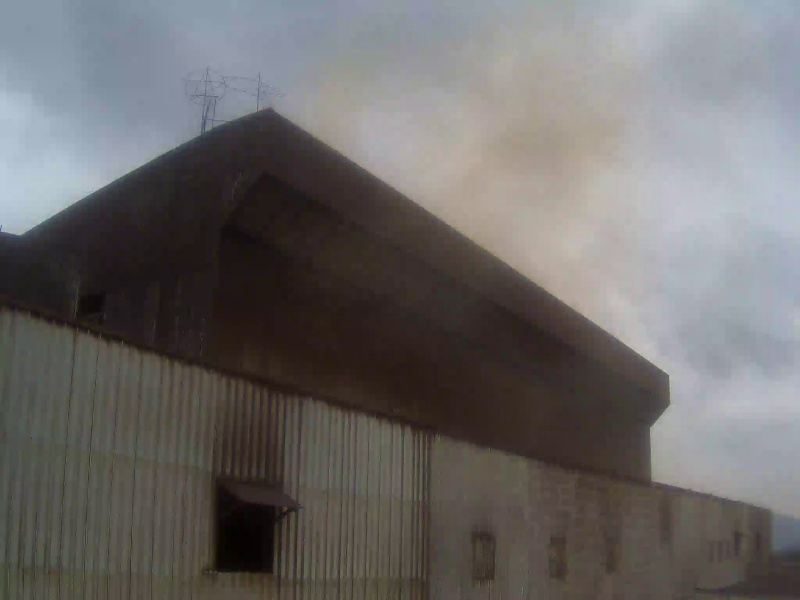bom: (2, 5, 190, 243), (191, 7, 282, 166)
ruim: (335, 5, 640, 343)
